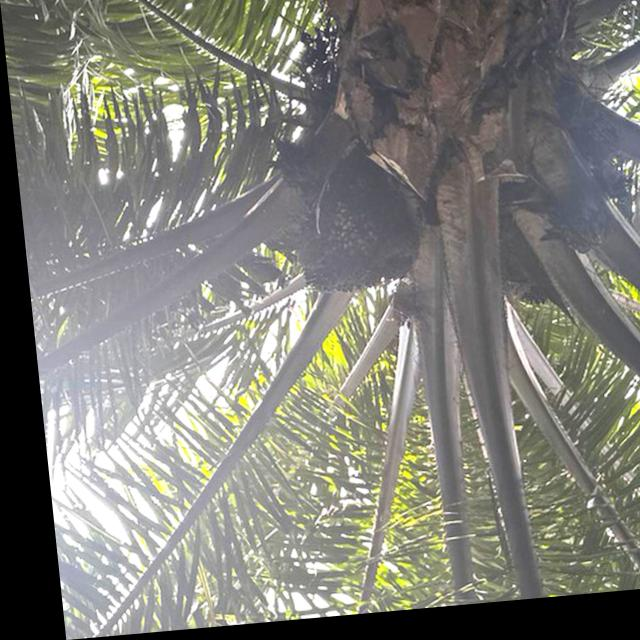unripe: (286, 163, 417, 305)
